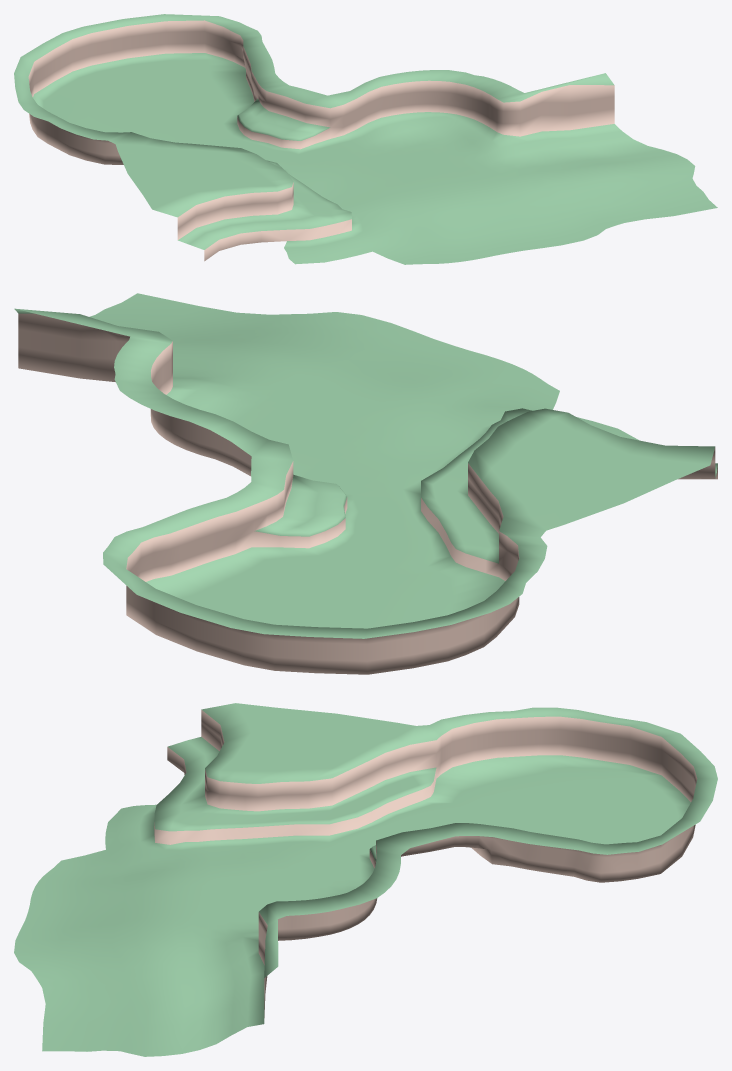
File: World_Plains2.fbx
The picture shows the model from 3 angles, top to bottom: view 1: azimuth 30°, elevation 25°; view 2: azimuth 150°, elevation 25°; view 3: azimuth 270°, elevation 25°; orthographic projection. The views are drawn at different scales.
Parts seen in each view (by area): view 1: Plane; view 2: Plane; view 3: Plane.
Part boxes in pixels (<box>): Plane: <box>14,14,717,264</box>; Plane: <box>14,293,717,674</box>; Plane: <box>14,703,717,1056</box>.
Size of the model in its own units: 18255 by 2323 by 18560.
